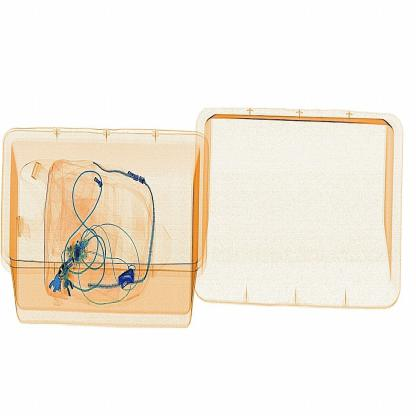knife: (113, 263, 144, 292)
